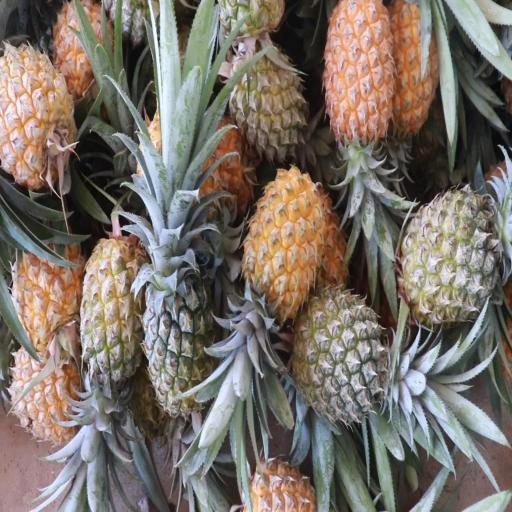------------------------------: (82, 229, 146, 401)
Pineapple - v8 v1: (325, 0, 396, 234), (247, 162, 319, 391), (0, 49, 99, 182), (6, 221, 88, 353), (50, 0, 118, 106), (392, 0, 441, 147), (10, 353, 87, 442)
